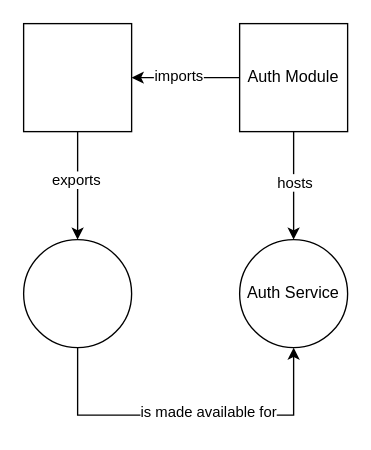
Image size: 371x450. Some labels were removed from this diagram. The centre of each missing label's shape, as x and y in pixels:
"Users Module" goes at pixel 77 77.
"Users Service" goes at pixel 77 293.
